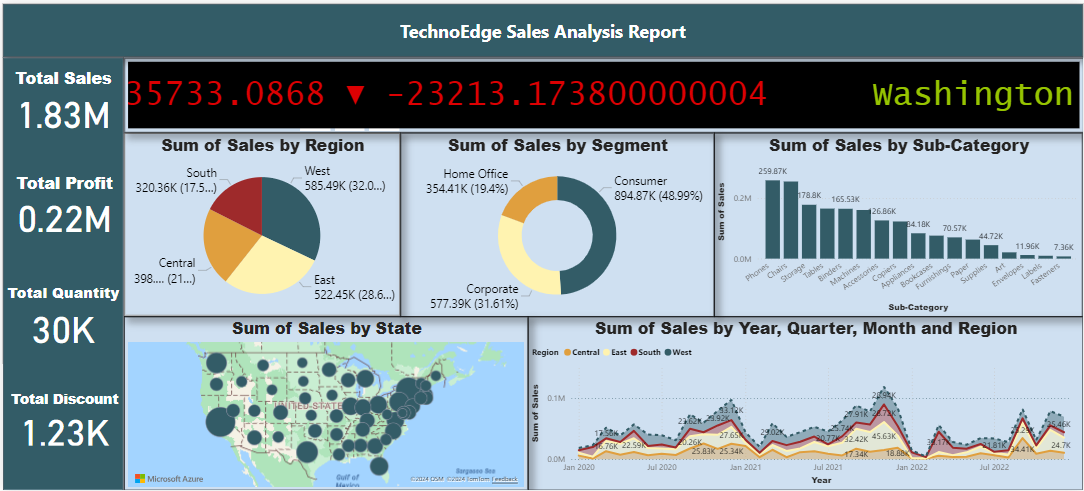

The dashboard page shown, as its layout file describes it:
{"tool":"powerbi","page":{"name":"Page 1","canvas":[1600,720],"ordinal":0},"visuals":[{"type":"shape","box":[0,0,1600,78.8],"z":0},{"type":"shape","box":[0,78.8,178.8,641.2],"z":1000},{"type":"card","title":"Total Sales","fields":{"Values":["Sum(CSV Files.Sales)"]},"box":[0,92.5,178.8,97.5],"z":2000},{"type":"card","title":"Total Profit","fields":{"Values":["Sum(CSV Files.Profit)"]},"box":[1.2,248.8,178.8,95],"z":3000},{"type":"card","title":"Total Quantity","fields":{"Values":["Sum(CSV Files.Quantity)"]},"box":[0,412.5,178.8,98.8],"z":4000},{"type":"card","title":"Total Discount","fields":{"Values":["Sum(CSV Files.Discount)"]},"box":[1.2,570,178.8,88.8],"z":5000},{"type":"azureMap","fields":{"Category":["CSV Files.State"],"Size":["Sum(CSV Files.Sales)"]},"box":[178.8,462.5,598.8,257.5],"z":6000},{"type":"stackedAreaChart","fields":{"Category":["CSV Files.Order Date.Variation.Date Hierarchy.Year","CSV Files.Order Date.Variation.Date Hierarchy.Quarter","CSV Files.Order Date.Variation.Date Hierarchy.Month","CSV Files.Order Date.Variation.Date Hierarchy.Day"],"Y":["Sum(CSV Files.Sales)"],"Series":["CSV Files.Region"]},"box":[777.5,462.5,822.5,257.5],"z":7000},{"type":"pieChart","fields":{"Category":["CSV Files.Region"],"Y":["Sum(CSV Files.Sales)"]},"box":[180,190,408.8,272.5],"z":8000},{"type":"donutChart","fields":{"Category":["CSV Files.Segment"],"Y":["Sum(CSV Files.Sales)"]},"box":[588.8,190,465,272.5],"z":9000},{"type":"clusteredColumnChart","fields":{"Category":["CSV Files.Sub-Category"],"Y":["Sum(CSV Files.Sales)"]},"box":[1053.8,190,546,272.5],"z":10000},{"type":"ScrollingTextVisual1448795304508","fields":{"Category":["CSV Files.State"],"Measure Absolute":["Sum(CSV Files.Sales)"],"Measure Deviation":["Sum(CSV Files.Profit)"]},"box":[178.8,78.8,1421.2,111.2],"z":11000}]}

Visuals, with their boxes in screenshot pixels (x1, y1, x2, y2), scaled from the page's 1600x720 canvas onto the 1084x491 screenshot:
shape: BBox(0, 0, 1083, 54)
shape: BBox(0, 54, 121, 490)
"Total Sales" card: BBox(0, 63, 121, 130)
"Total Profit" card: BBox(1, 170, 122, 234)
"Total Quantity" card: BBox(0, 281, 121, 349)
"Total Discount" card: BBox(1, 389, 122, 449)
azureMap - CSV Files.State x Sum(CSV Files.Sales): BBox(121, 315, 527, 490)
stackedAreaChart - CSV Files.Order Date.Variation.Date Hierarchy.Year x CSV Files.Order Date.Variation.Date Hierarchy.Quarter: BBox(527, 315, 1083, 490)
pieChart - CSV Files.Region x Sum(CSV Files.Sales): BBox(122, 130, 399, 315)
donutChart - CSV Files.Segment x Sum(CSV Files.Sales): BBox(399, 130, 714, 315)
clusteredColumnChart - CSV Files.Sub-Category x Sum(CSV Files.Sales): BBox(714, 130, 1083, 315)
ScrollingTextVisual1448795304508 - CSV Files.State x Sum(CSV Files.Sales): BBox(121, 54, 1083, 130)
